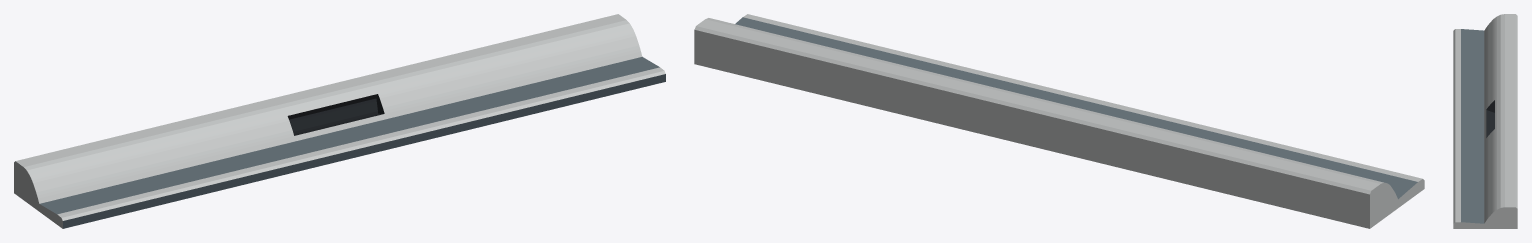
The model's file is rolled-kerb-run-3e8bc3.glb.
The picture shows the model from 3 angles, left to right: view 1: azimuth 30°, elevation 25°; view 2: azimuth 150°, elevation 25°; view 3: azimuth 270°, elevation 25°; orthographic projection. The views are drawn at different scales.
Visible parts, largest first — view 1: kerb-section; view 2: kerb-section; view 3: kerb-section.
Boxes of the visible parts, x1,y1,x2,y2 form: kerb-section: (14,14,665,228); kerb-section: (694,14,1424,228); kerb-section: (1453,14,1517,228).
Bounding box in the file's own units: 4 × 0.21 × 0.56.
